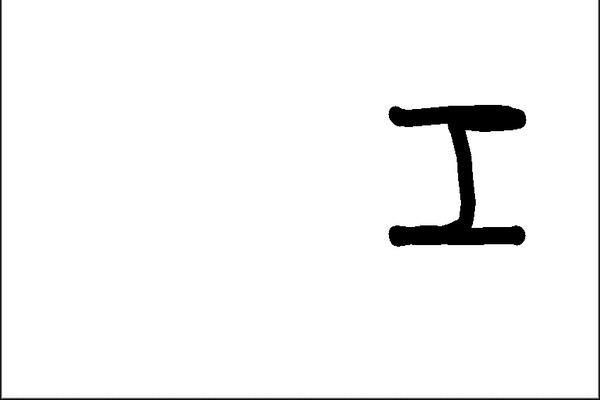i: (377, 100, 530, 249)
